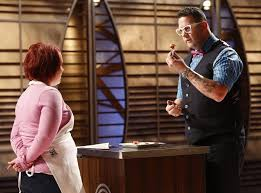Caution: (11, 6, 243, 192)
